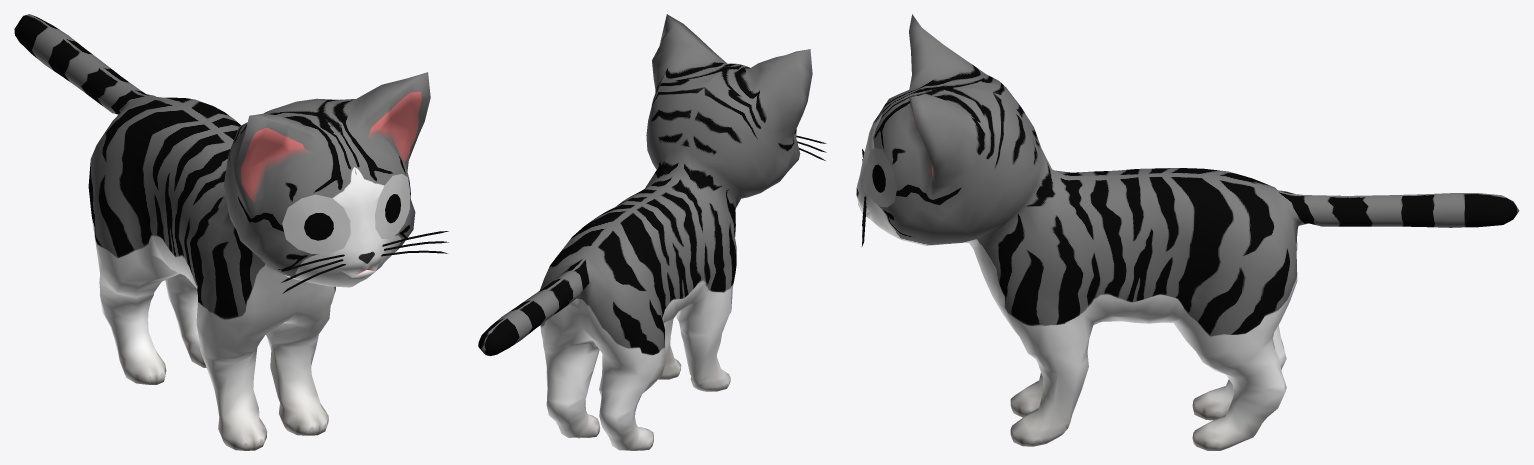
The model's file is Cat_OLD.FBX.
3 views of the same model, side by side, from view 1: azimuth 30°, elevation 25°; view 2: azimuth 150°, elevation 25°; view 3: azimuth 270°, elevation 25° (orthographic). The views are drawn at different scales.
Parts seen in each view (by area): view 1: Chii; view 2: Chii; view 3: Chii.
Boxes of the visible parts, box(x1,y1,x2,y2) form: Chii: box(14, 14, 448, 450); Chii: box(478, 14, 826, 450); Chii: box(856, 14, 1519, 450).
Size of what is drawn, in the model's own units: 27.59 by 54.94 by 87.58.
